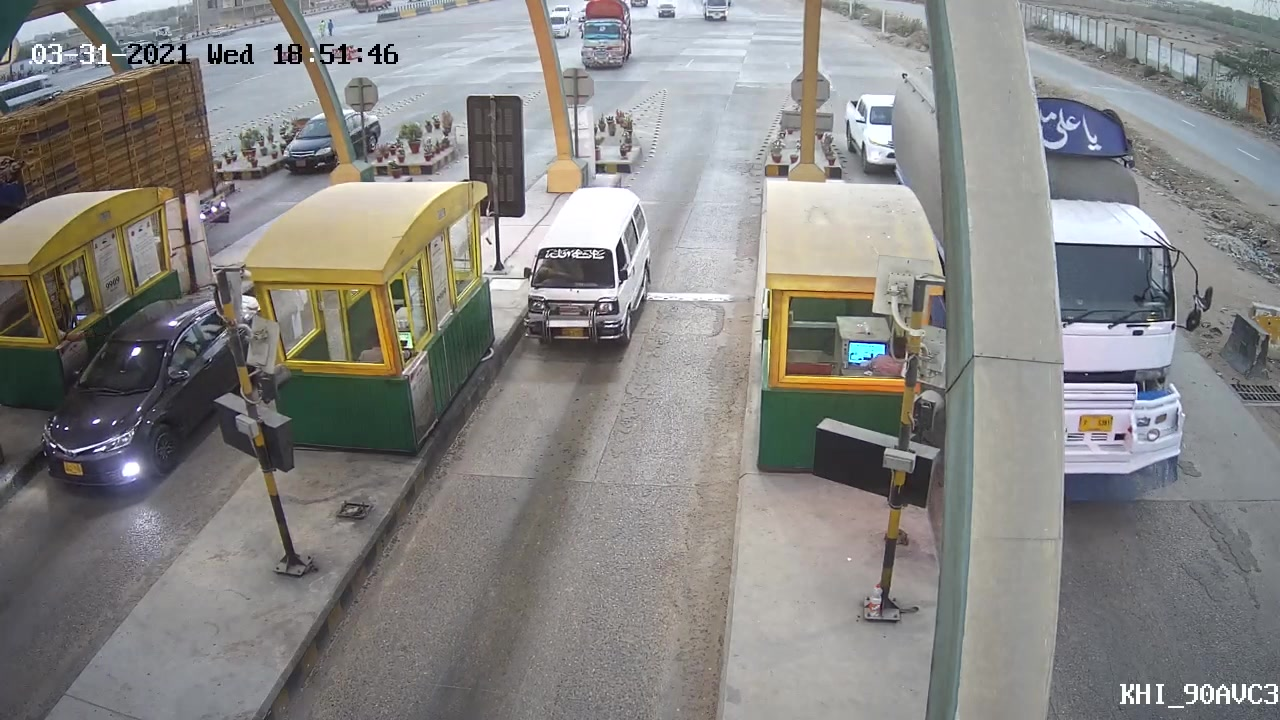F1: (521, 180, 656, 351)
